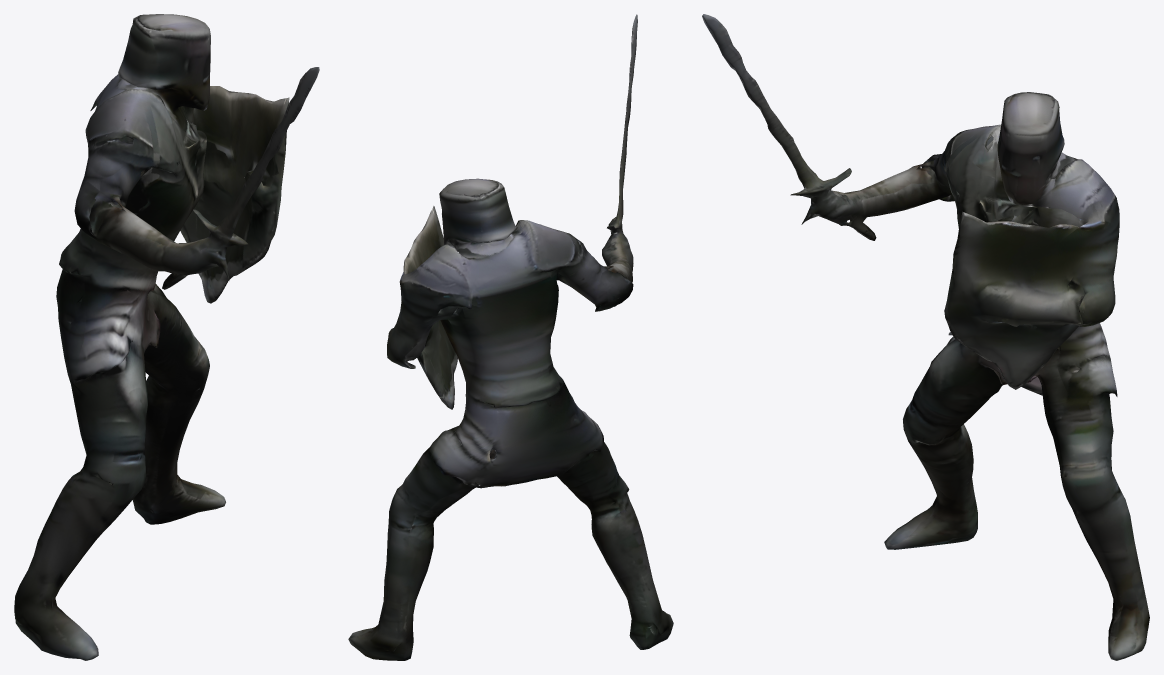
File: 6_textured_frame_000000.glb
The picture shows the model from 3 angles, left to right: view 1: azimuth 30°, elevation 25°; view 2: azimuth 150°, elevation 25°; view 3: azimuth 270°, elevation 25°; orthographic projection. The views are drawn at different scales.
Visible parts, largest first — view 1: geometry_0; view 2: geometry_0; view 3: geometry_0.
Part boxes in pixels (x1,y1,x2,y2): geometry_0: (14,14,319,660); geometry_0: (348,14,673,660); geometry_0: (702,14,1149,660).
Bounding box in the file's own units: 0.8935 × 1.86 × 1.26.
Materials: 1 (1 with a texture image).
